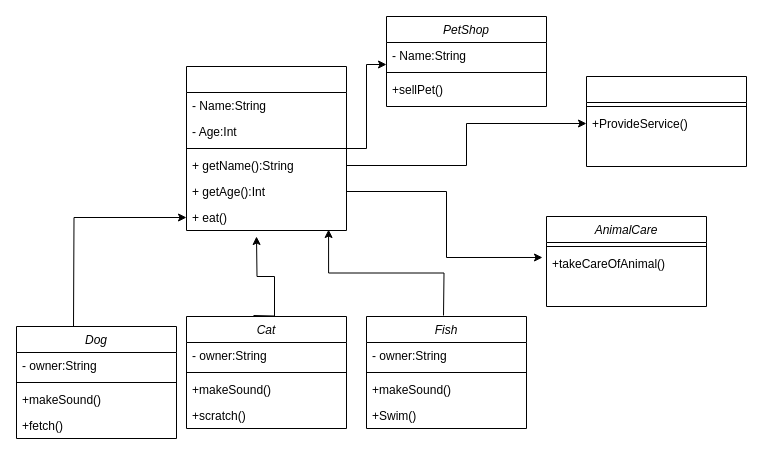
The diagram is 763 pixels wide and 455 high, and some of its shapes have lost their labels. Here are the shapes that lost their labels. From the top down, the box of each, then its label:
(586, 76, 746, 166): PetService
(186, 66, 346, 230): Animal
